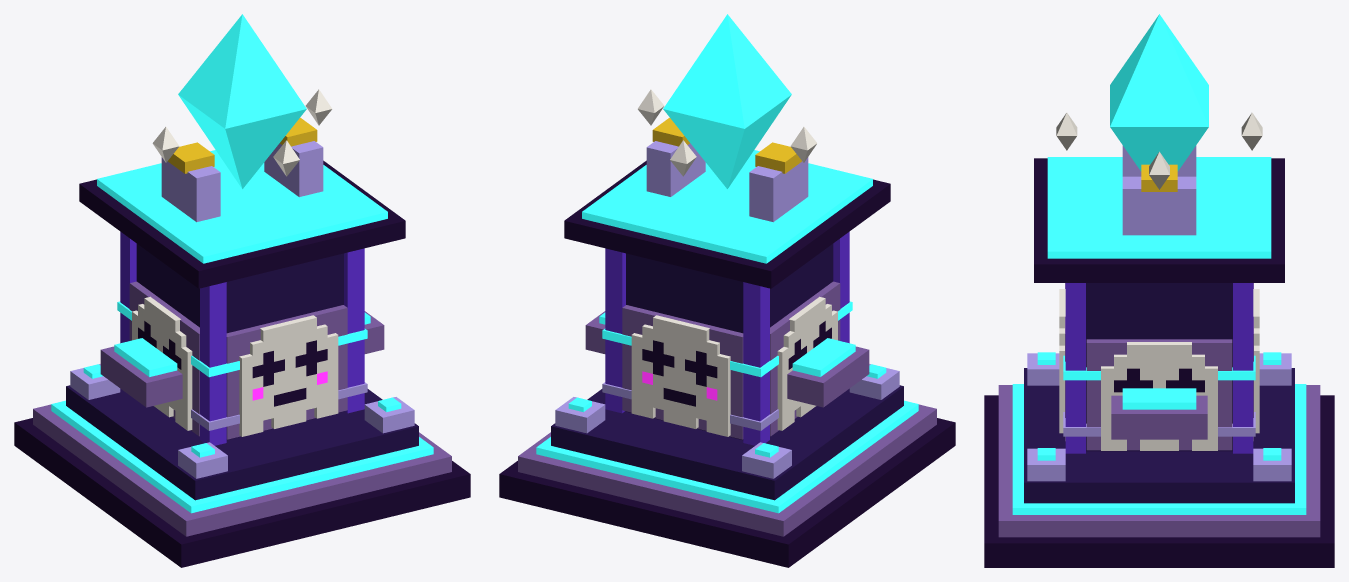
The model's file is discovery-tier-2.glb.
The picture shows the model from 3 angles, left to right: view 1: azimuth 30°, elevation 25°; view 2: azimuth 150°, elevation 25°; view 3: azimuth 270°, elevation 25°; orthographic projection. The views are drawn at different scales.
Visible parts, largest first — view 1: base-ink, base-deep, base-teal, base-stone, crown-teal, base-cream, base-purple, crown-lavender, base-lavender, crown-gold, crown-cream; view 2: base-ink, base-deep, base-teal, base-stone, crown-teal, base-cream, base-purple, crown-lavender, base-lavender, crown-gold, crown-cream; view 3: base-teal, base-deep, base-ink, base-stone, crown-teal, base-cream, base-purple, base-lavender, crown-lavender, crown-cream, crown-gold.
Boxes of the visible parts, bbox=[...] form: base-ink: bbox=[14, 160, 470, 567]; base-deep: bbox=[66, 244, 418, 500]; base-teal: bbox=[51, 150, 433, 513]; base-stone: bbox=[33, 281, 451, 536]; crown-teal: bbox=[178, 14, 306, 188]; base-cream: bbox=[132, 296, 338, 436]; base-purple: bbox=[120, 231, 364, 445]; crown-lavender: bbox=[161, 141, 323, 222]; base-lavender: bbox=[70, 364, 414, 478]; crown-gold: bbox=[168, 117, 317, 173]; crown-cream: bbox=[152, 89, 331, 176]; base-ink: bbox=[499, 160, 955, 567]; base-deep: bbox=[551, 244, 903, 500]; base-teal: bbox=[536, 150, 918, 513]; base-stone: bbox=[518, 281, 936, 536]; crown-teal: bbox=[663, 14, 791, 188]; base-cream: bbox=[631, 296, 837, 436]; base-purple: bbox=[605, 231, 849, 445]; crown-lavender: bbox=[646, 141, 808, 222]; base-lavender: bbox=[555, 364, 899, 478]; crown-gold: bbox=[652, 117, 801, 173]; crown-cream: bbox=[638, 89, 817, 176]; base-teal: bbox=[1012, 157, 1306, 514]; base-deep: bbox=[1024, 283, 1294, 503]; base-ink: bbox=[984, 158, 1334, 567]; base-stone: bbox=[998, 283, 1320, 537]; crown-teal: bbox=[1110, 14, 1208, 171]; base-cream: bbox=[1059, 289, 1259, 450]; base-purple: bbox=[1065, 283, 1253, 453]; base-lavender: bbox=[1027, 353, 1291, 481]; crown-lavender: bbox=[1122, 145, 1196, 235]; crown-cream: bbox=[1056, 112, 1262, 189]; crown-gold: bbox=[1141, 164, 1177, 191].
Size of the model in its own units: 3.1 by 4.69 by 3.1.
